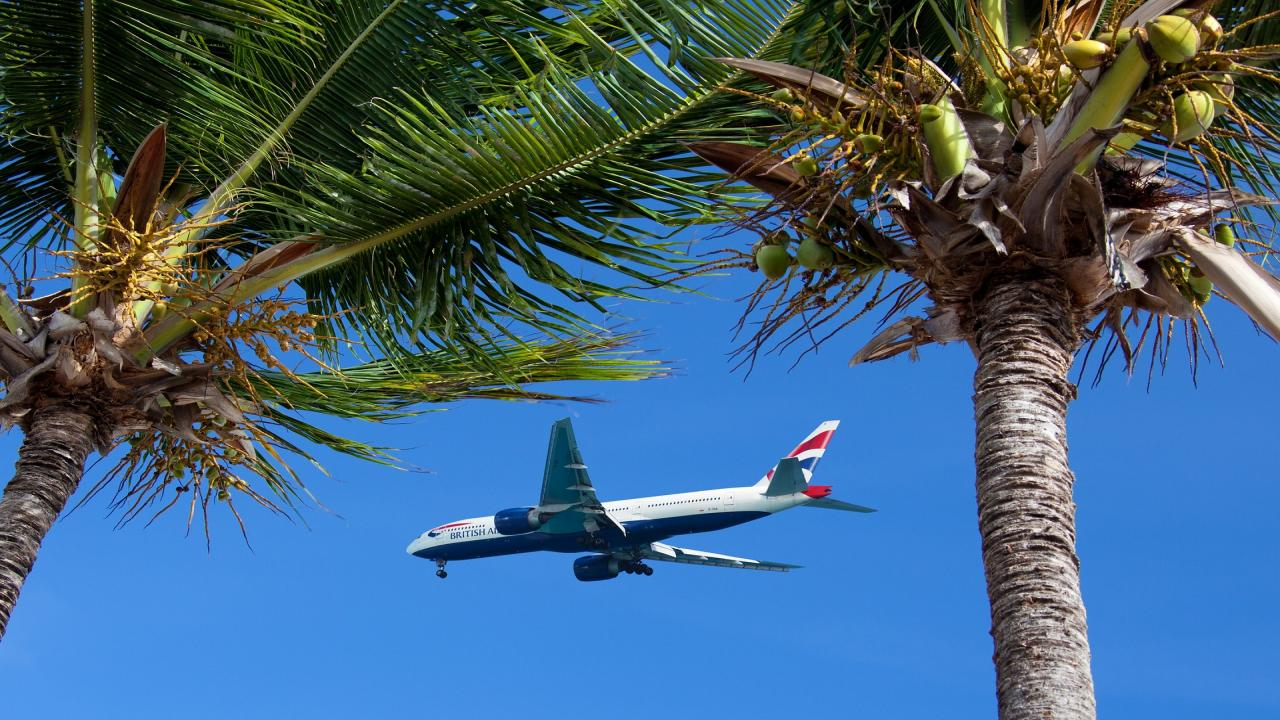Airplane: (392, 406, 892, 593)
